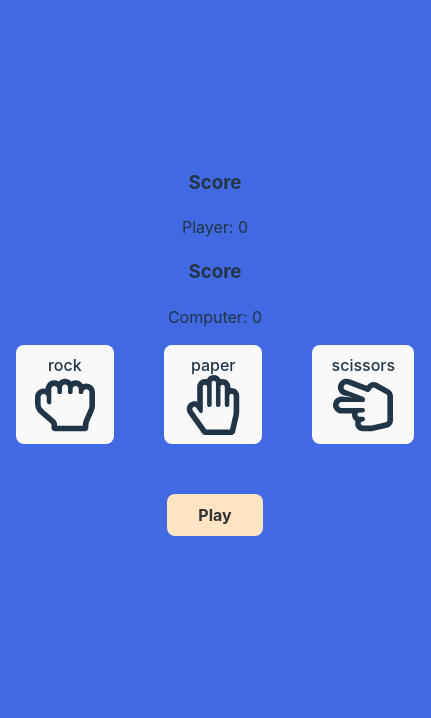
Test: ScoreAndResults › should dispaly a message on the page - Player wins!
The width and height of the screenshot is (431, 718).
Click the button "paper". click: x=213, y=394
box: [164,345,262,444]
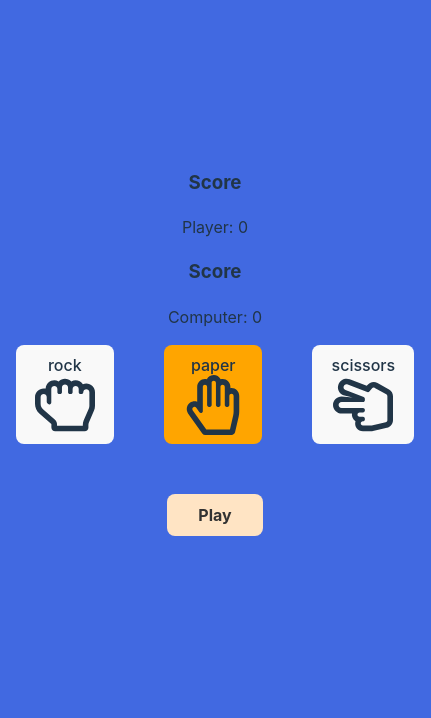
Click the button "Play". click: x=215, y=515
box: [167,494,263,536]
Wait 3000 ms
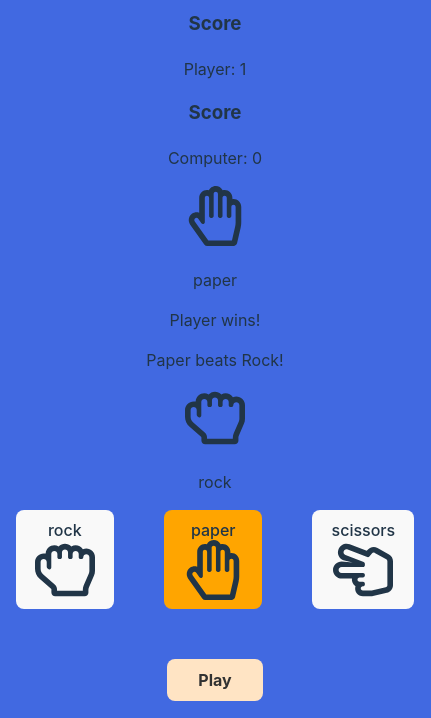
Expected: the text "Player wins!" is shown, [170,310,260,330]
Expected: the text "Paper beats Rock!" is shown, [146,350,284,370]
Expected: the text "Player: 1" is shown, [184,58,246,78]
